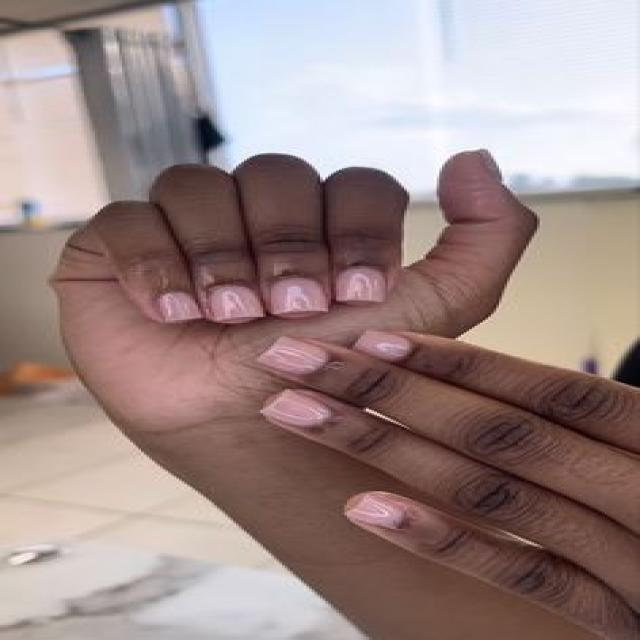Fingernail: (254, 335, 330, 375), (263, 389, 336, 427), (349, 493, 408, 529), (271, 278, 329, 314), (210, 284, 264, 321), (353, 327, 411, 361), (336, 266, 385, 302), (158, 291, 203, 322)
